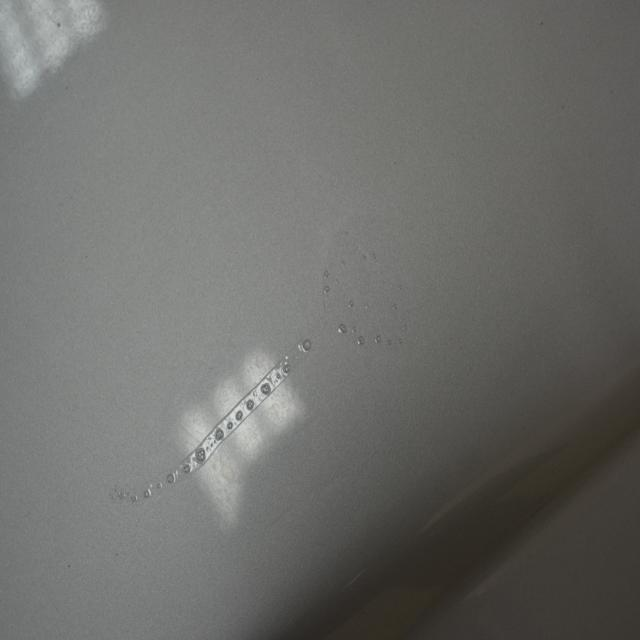runs: (106, 216, 423, 510)
